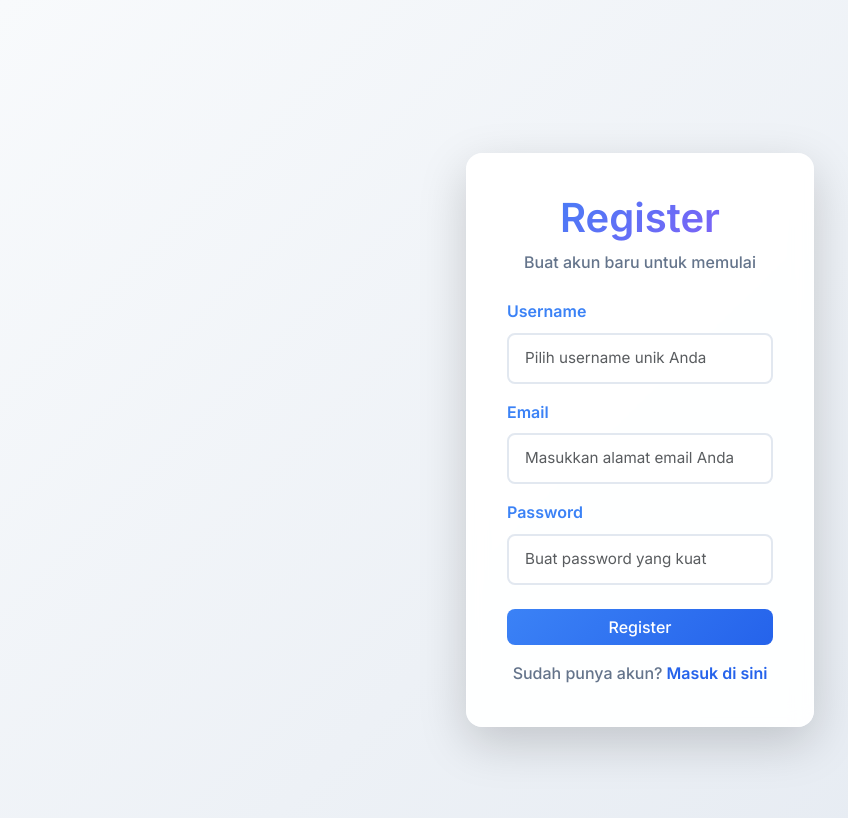
Test: Register Component › shows error when password is empty
In the field labelled "Username": (640, 358) [507,333,773,384], type "testuser"
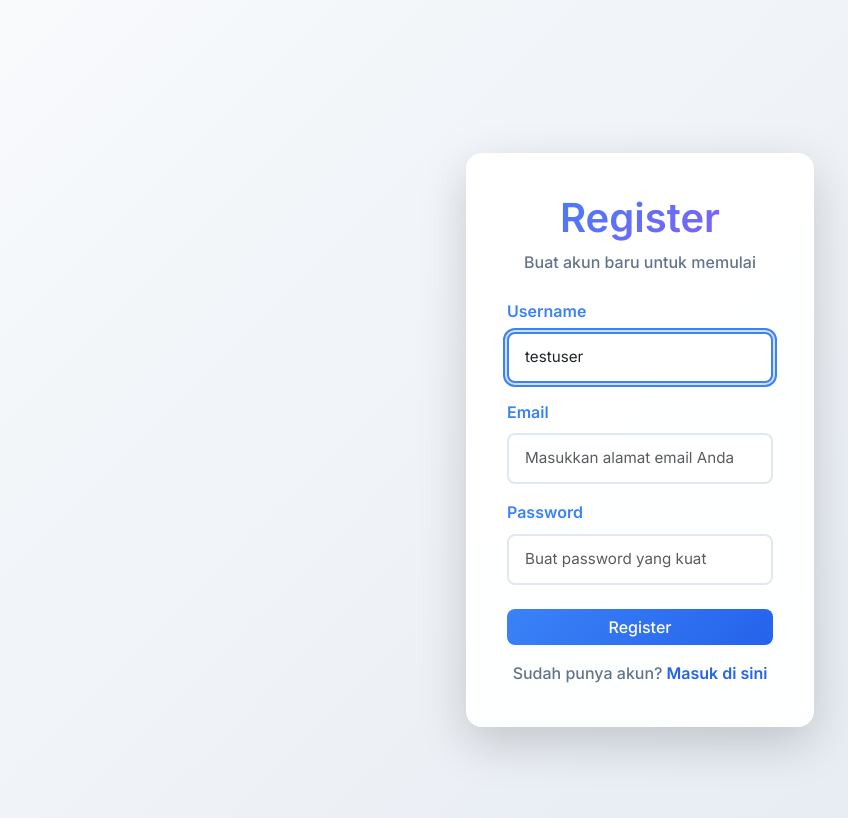
In the field labelled "Email": (640, 459) [507,433,773,484], type "test@example.com"
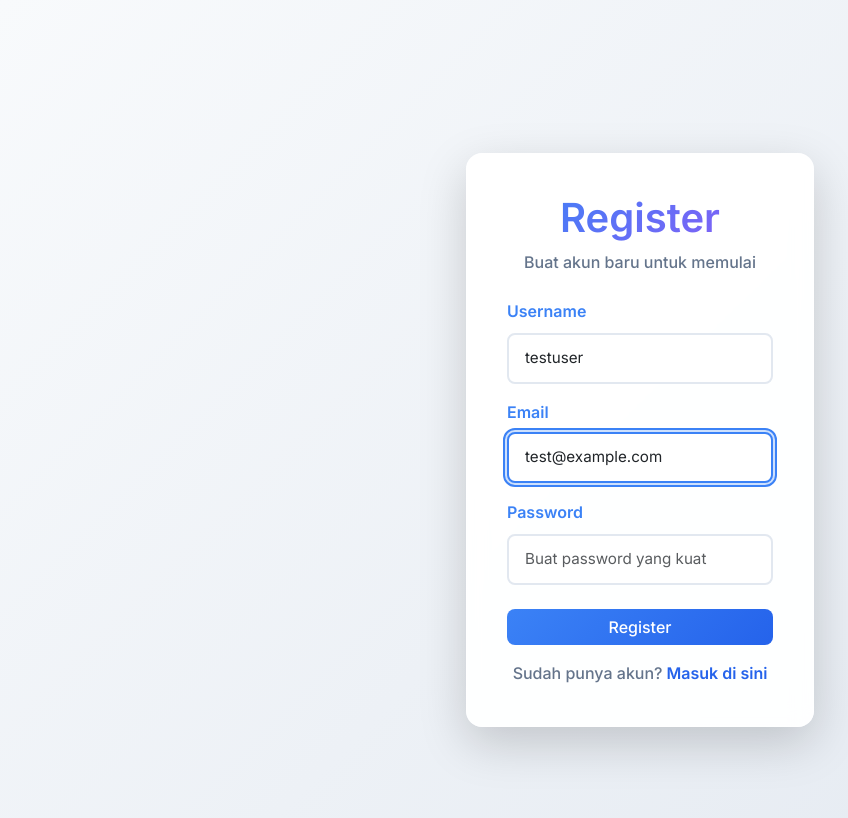
Click the button "Register": (640, 627) [507,609,773,645]
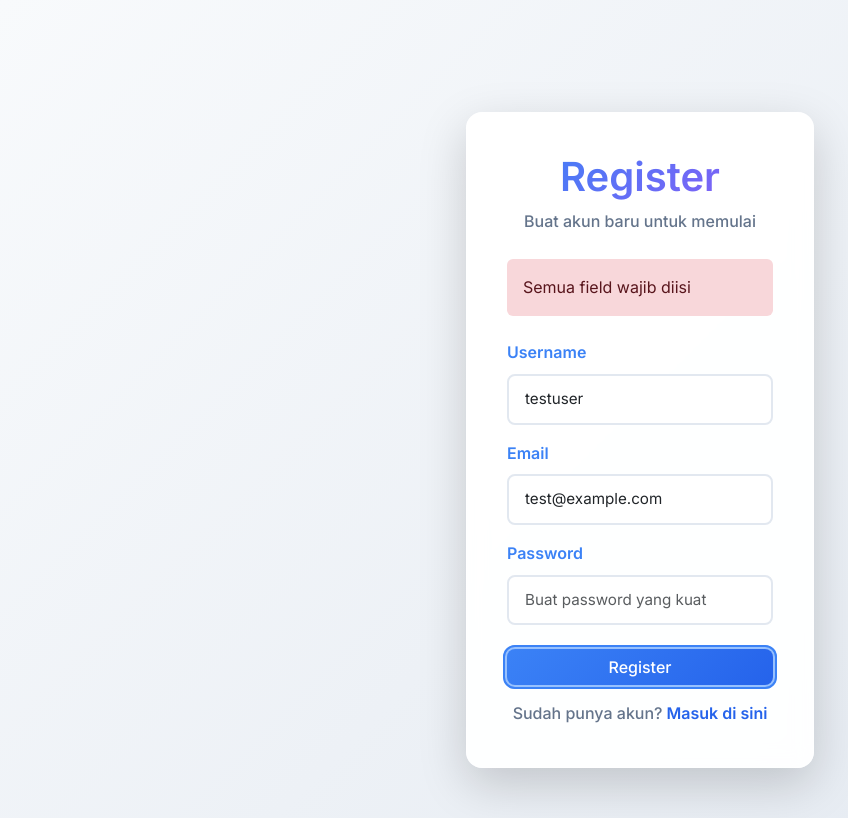
Expected: the text "Semua field wajib diisi" is shown, [507,259,773,316]
